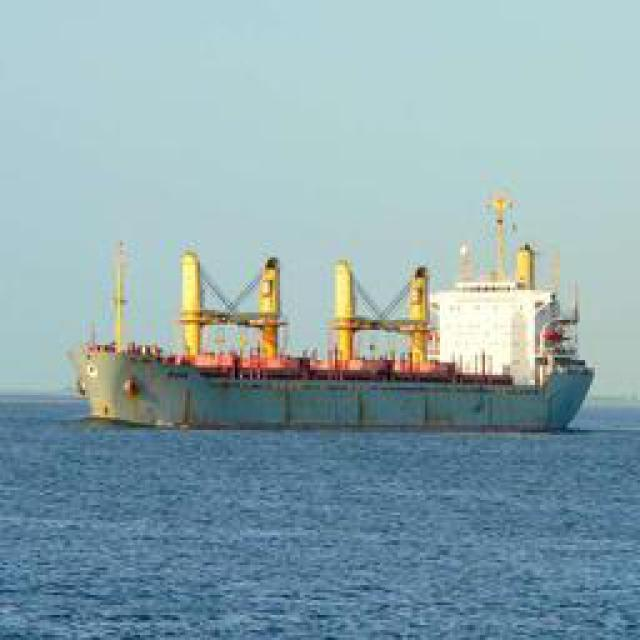Ship: (69, 200, 604, 433)
